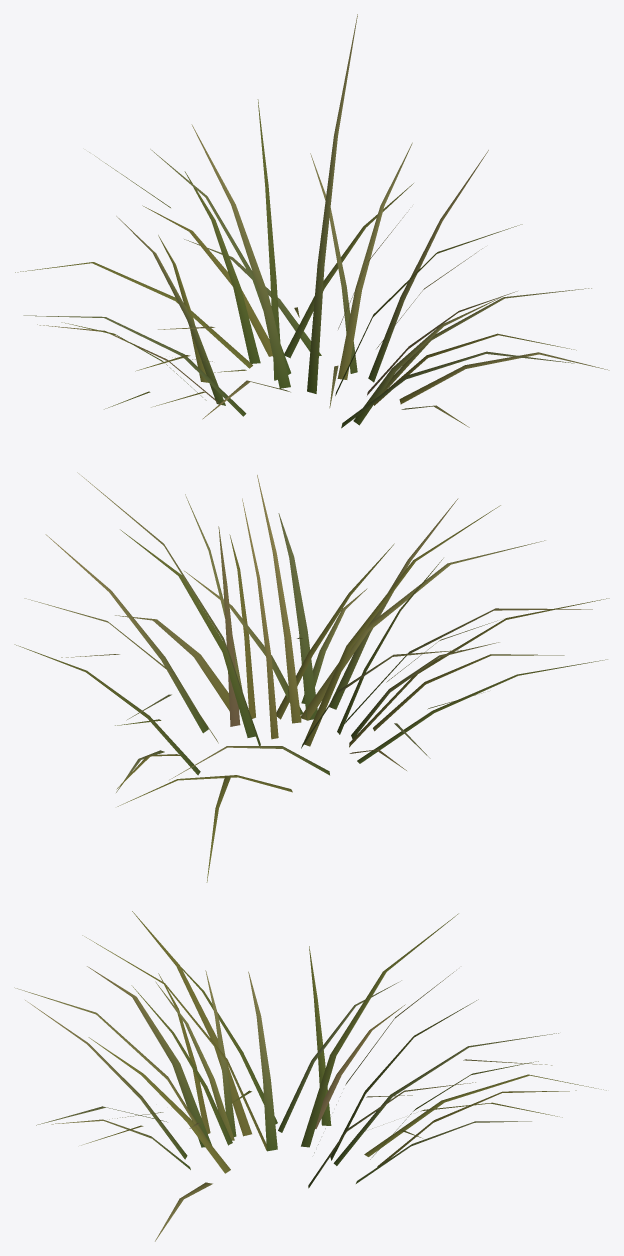
Rendered from far_a.glb.
The picture shows the model from 3 angles, top to bottom: view 1: azimuth 30°, elevation 25°; view 2: azimuth 150°, elevation 25°; view 3: azimuth 270°, elevation 25°; orthographic projection. The views are drawn at different scales.
Parts seen in each view (by area): view 1: far_a; view 2: far_a; view 3: far_a.
Boxes of the visible parts, x1,y1,x2,y2 form: far_a: [15, 14, 609, 428]; far_a: [14, 472, 609, 882]; far_a: [14, 911, 606, 1241].
Size of the model in its own units: 0.8685 by 0.4942 by 0.9833.
